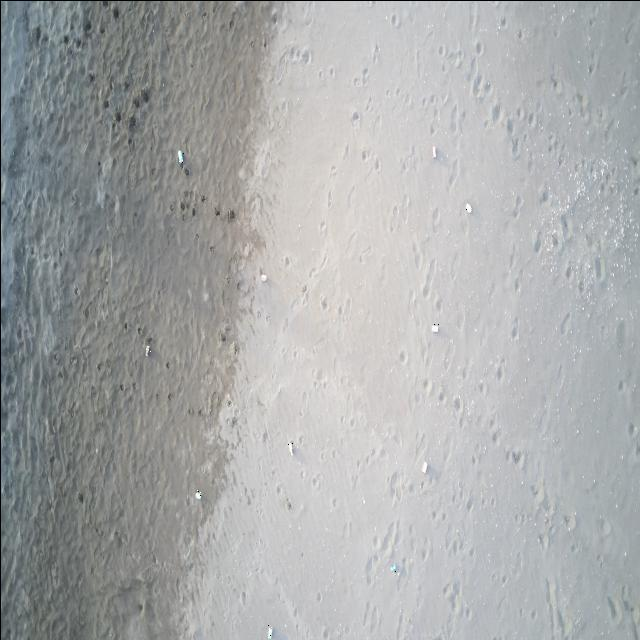Garbage: (464, 201, 472, 212), (178, 150, 183, 166), (420, 461, 427, 472), (144, 344, 150, 355), (267, 626, 272, 639), (260, 272, 267, 281), (288, 442, 292, 455), (195, 489, 200, 499), (431, 324, 437, 332), (391, 564, 396, 572), (432, 145, 435, 158)
